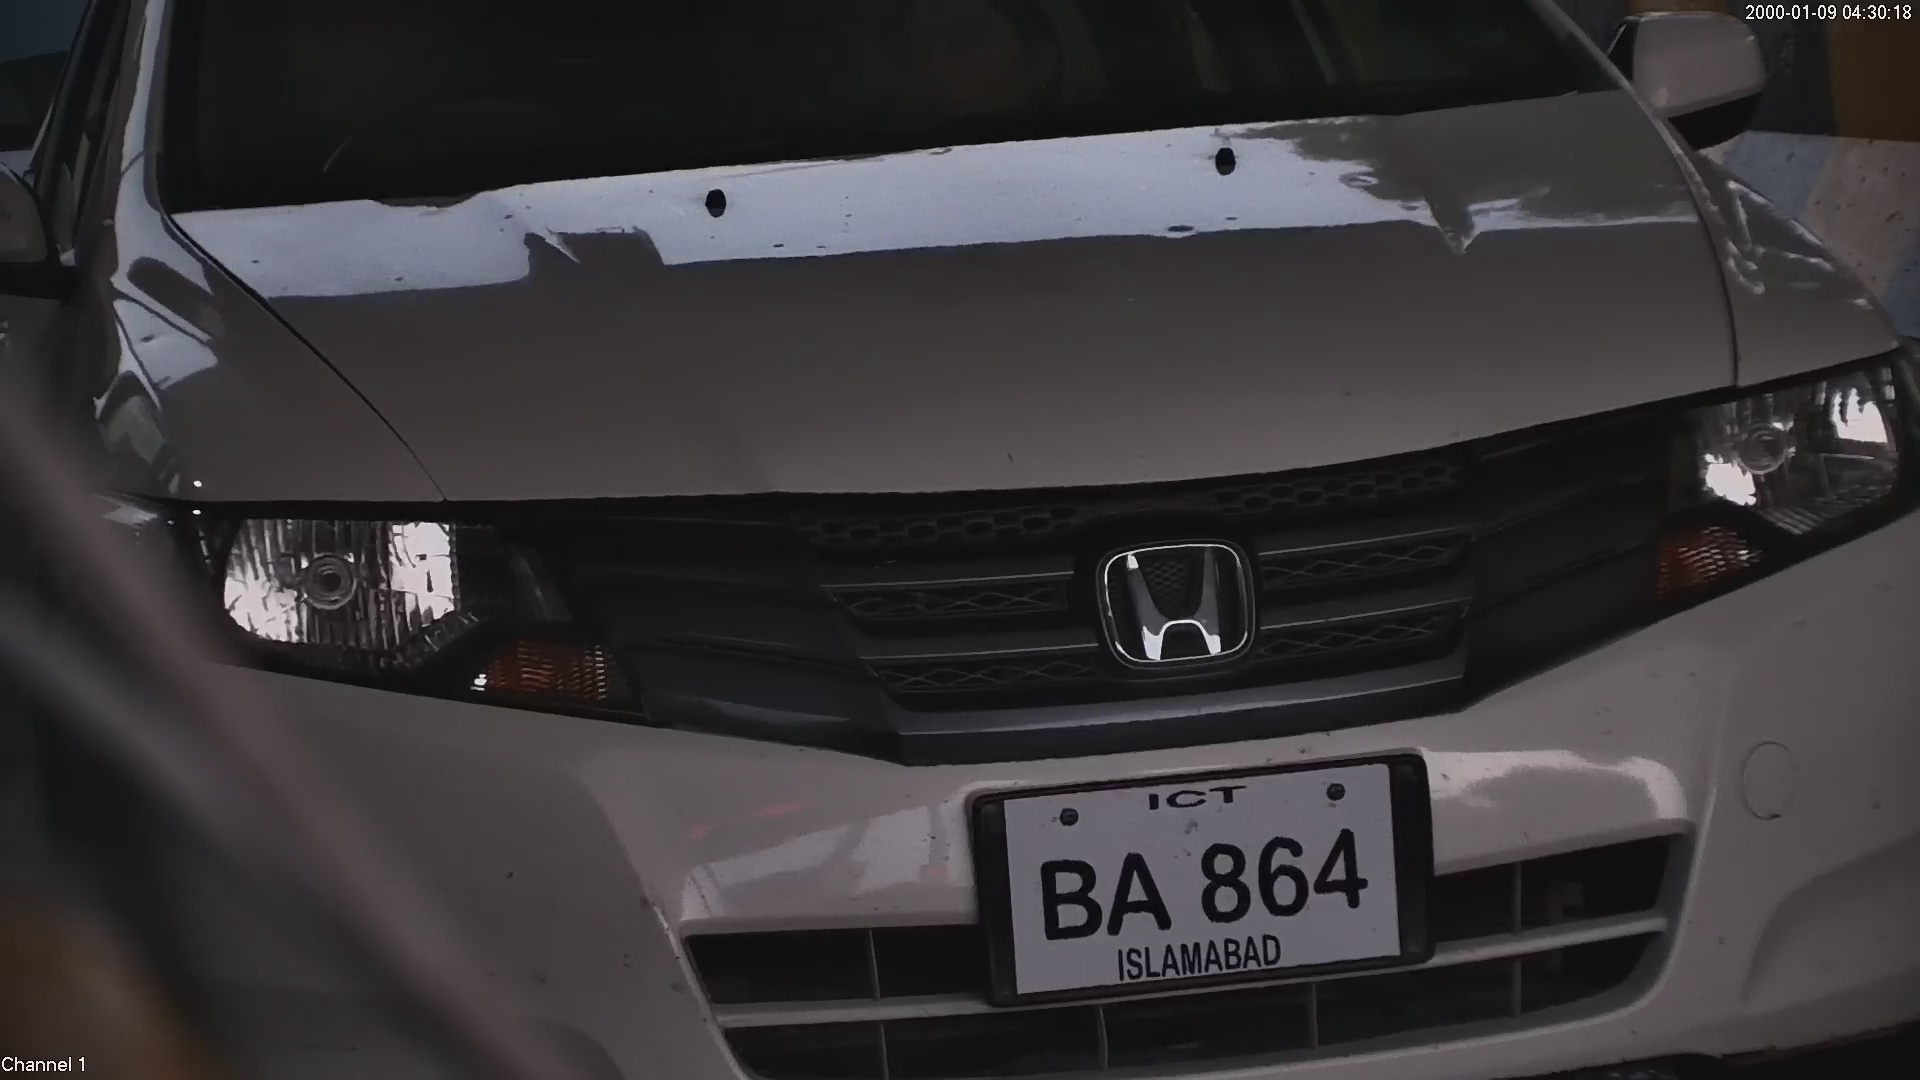Number_Plate: (969, 757, 1417, 992)
